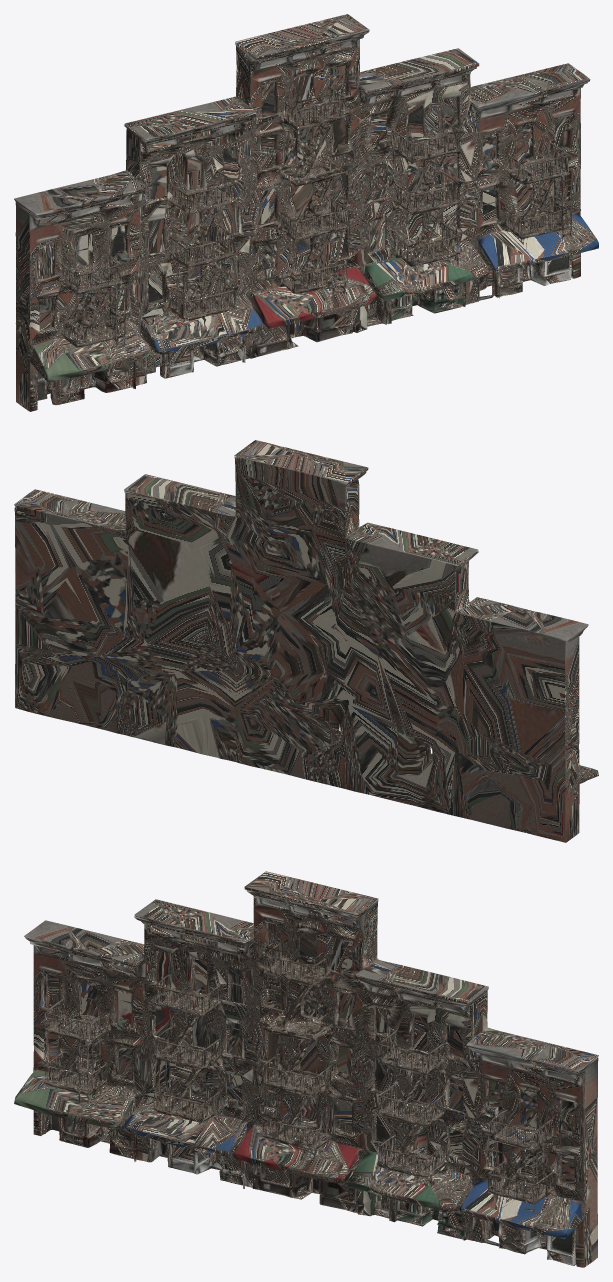
The model's file is row_five_c_hq.glb.
The picture shows the model from 3 angles, top to bottom: view 1: azimuth 30°, elevation 25°; view 2: azimuth 150°, elevation 25°; view 3: azimuth 330°, elevation 25°; orthographic projection.
Size of the model in its own units: 32.02 by 17 by 3.5.
Materials: 1 (1 with a texture image).
